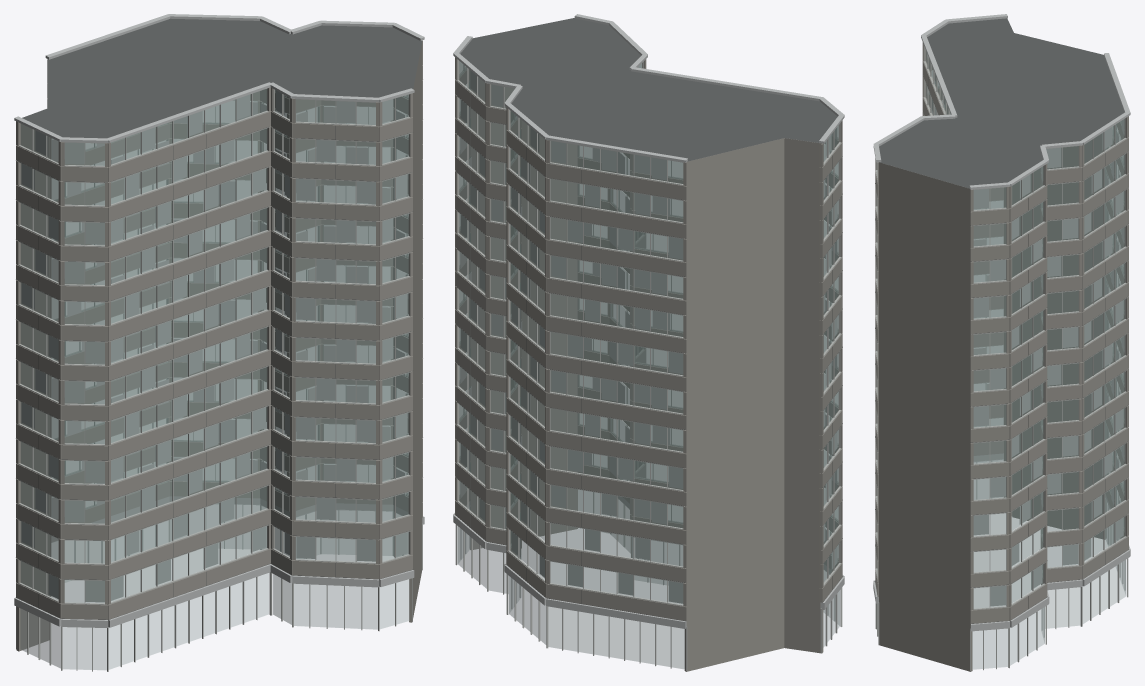
File: faw-exterior-94d72461a6e4.glb
3 renders of one model, left to right at view 1: azimuth 30°, elevation 25°; view 2: azimuth 150°, elevation 25°; view 3: azimuth 270°, elevation 25°, orthographic. The views are drawn at different scales.
Visible parts, largest first — view 1: FAW.001; view 2: FAW.001; view 3: FAW.001.
Part boxes in pixels (left/top/right/bottom): FAW.001: left=14, top=14, right=424, bottom=671; FAW.001: left=453, top=14, right=844, bottom=671; FAW.001: left=873, top=14, right=1130, bottom=671.
Size of the model in its own units: 33.96 by 44.23 by 21.26.
